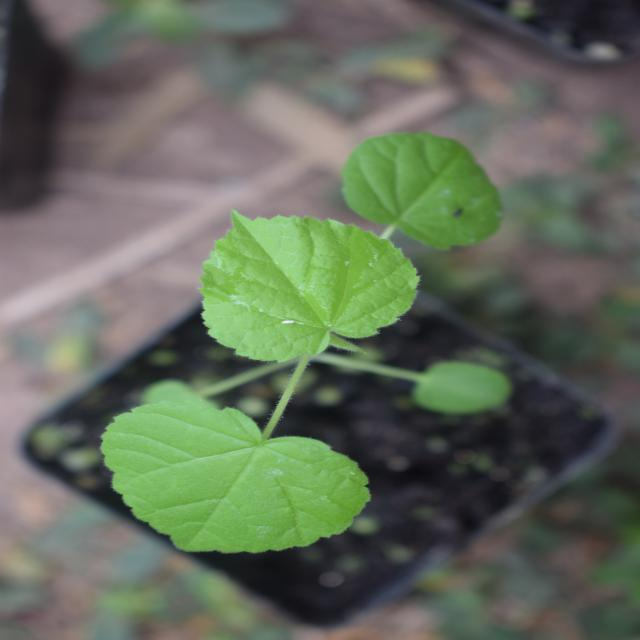abutilon theophrasti: (98, 104, 482, 512)
